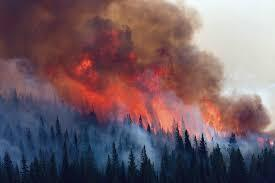fire: (62, 56, 228, 138)
smoke: (1, 0, 268, 170)
